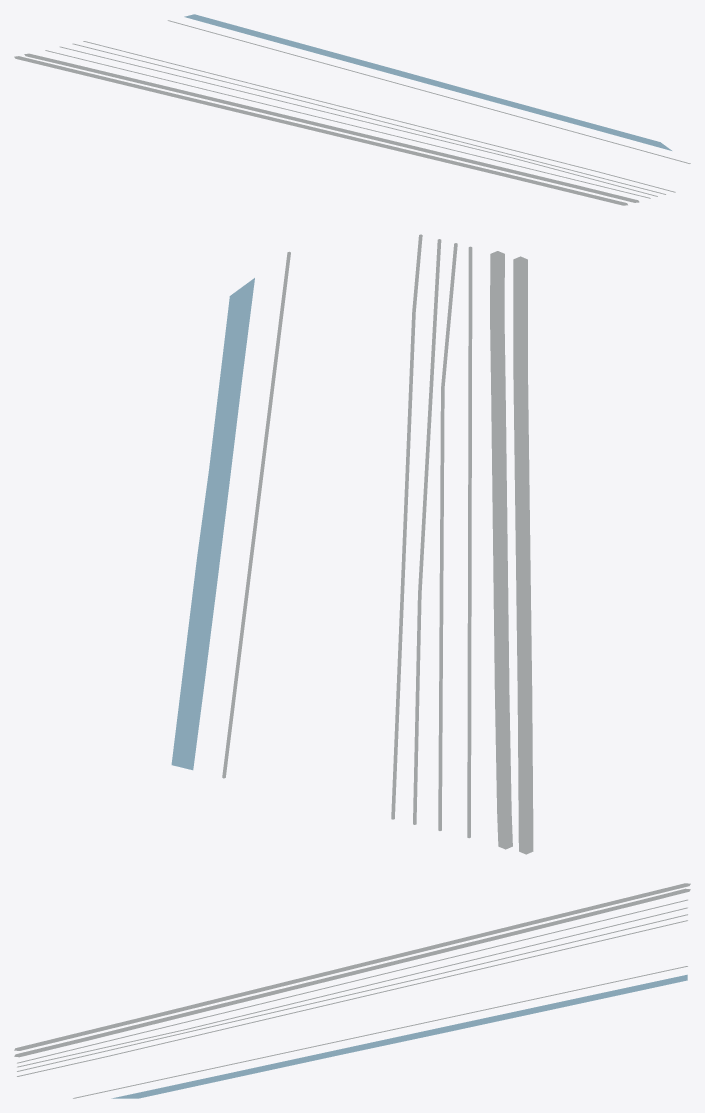
The model's file is -26_12-known-coarse.glb.
3 views of the same model, one above another, from view 1: azimuth 30°, elevation 25°; view 2: azimuth 150°, elevation 25°; view 3: azimuth 270°, elevation 25° (orthographic). The views are drawn at different scales.
Size of the model in its own units: 758 by 0.1 by 1005.
